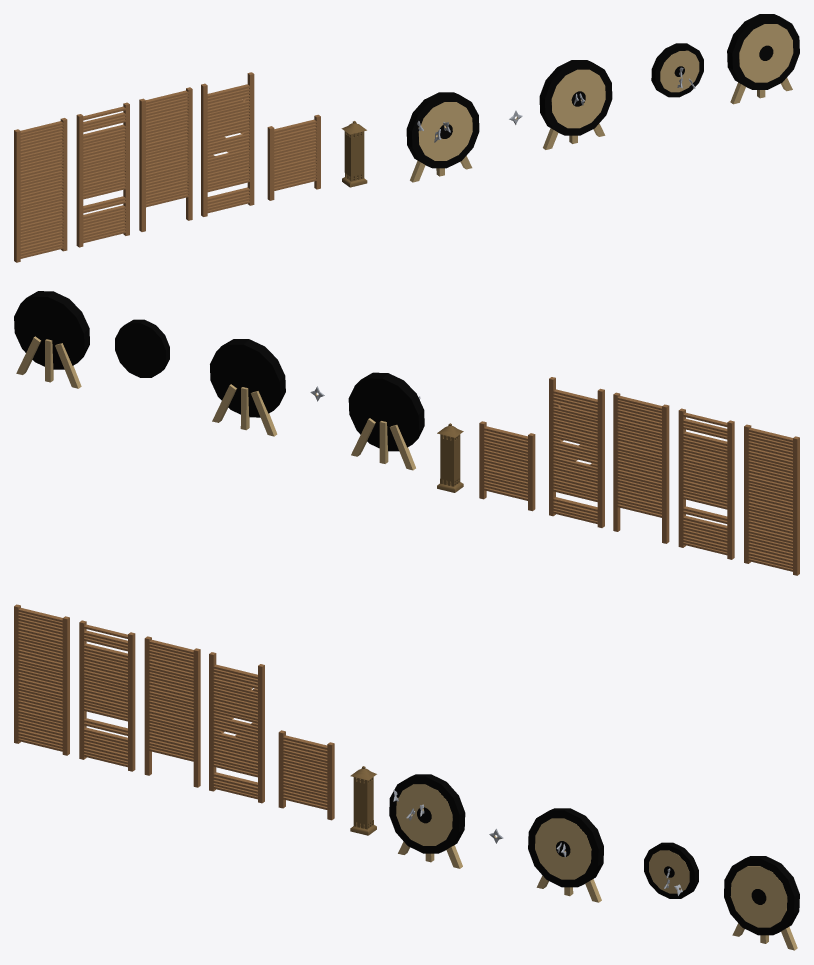
Rendered from modelos ninja semana 8 - luana.fbx.
3 views of the same model, one above another, from view 1: azimuth 30°, elevation 25°; view 2: azimuth 150°, elevation 25°; view 3: azimuth 330°, elevation 25° (orthographic). The views are drawn at different scales.
Visible parts, largest first — view 1: biombo, biombo.001, biombo.003, biombo.002, alvo, alvo.003, alvo.001, biombo.004, alvo.002, torre de incenso; view 2: biombo, biombo.001, biombo.003, biombo.002, alvo, alvo.003, alvo.001, biombo.004, alvo.002, torre de incenso; view 3: biombo, biombo.001, biombo.003, biombo.002, alvo, alvo.001, alvo.003, biombo.004, alvo.002, torre de incenso.
Boxes of the visible parts, bbox=[...] form: biombo: bbox=[14, 118, 67, 262]; biombo.001: bbox=[76, 102, 129, 247]; biombo.003: bbox=[201, 72, 254, 216]; biombo.002: bbox=[139, 87, 192, 231]; alvo: bbox=[406, 92, 479, 182]; alvo.003: bbox=[727, 14, 799, 104]; alvo.001: bbox=[539, 60, 612, 149]; biombo.004: bbox=[267, 114, 320, 200]; alvo.002: bbox=[651, 43, 703, 97]; torre de incenso: bbox=[341, 121, 367, 187]; biombo: bbox=[744, 424, 799, 575]; biombo.001: bbox=[678, 408, 734, 559]; biombo.003: bbox=[549, 377, 604, 527]; biombo.002: bbox=[613, 392, 669, 543]; alvo: bbox=[348, 372, 424, 470]; alvo.003: bbox=[14, 291, 89, 388]; alvo.001: bbox=[210, 339, 285, 436]; biombo.004: bbox=[479, 421, 535, 511]; alvo.002: bbox=[115, 319, 169, 377]; torre de incenso: bbox=[437, 423, 463, 492]; biombo: bbox=[14, 604, 69, 755]; biombo.001: bbox=[79, 620, 135, 771]; biombo.003: bbox=[209, 652, 264, 803]; biombo.002: bbox=[144, 636, 200, 787]; alvo: bbox=[389, 774, 465, 868]; alvo.001: bbox=[528, 808, 603, 902]; alvo.003: bbox=[724, 856, 799, 950]; biombo.004: bbox=[278, 730, 334, 820]; alvo.002: bbox=[644, 842, 698, 898]; torre de incenso: bbox=[350, 766, 376, 835].
Size of the model in its own units: 1405 by 235 by 85.94.
